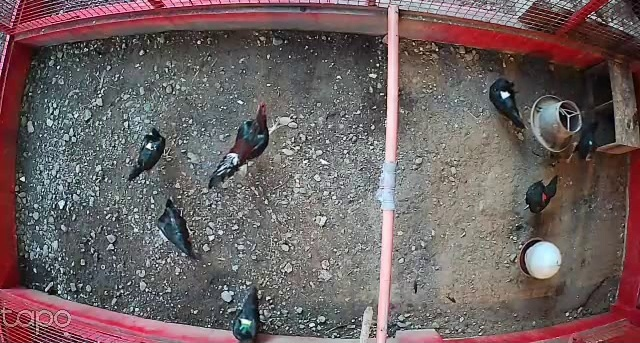Chicken: (154, 196, 203, 265), (121, 126, 179, 184), (485, 76, 531, 134), (562, 119, 602, 169), (522, 173, 561, 215)
Rooster: (207, 100, 286, 188)
Saddle_Color_Red: (542, 193, 547, 201)
Saddle_Color_White: (500, 90, 509, 98)
Saddle_Color_Yellow: (144, 143, 156, 151)
